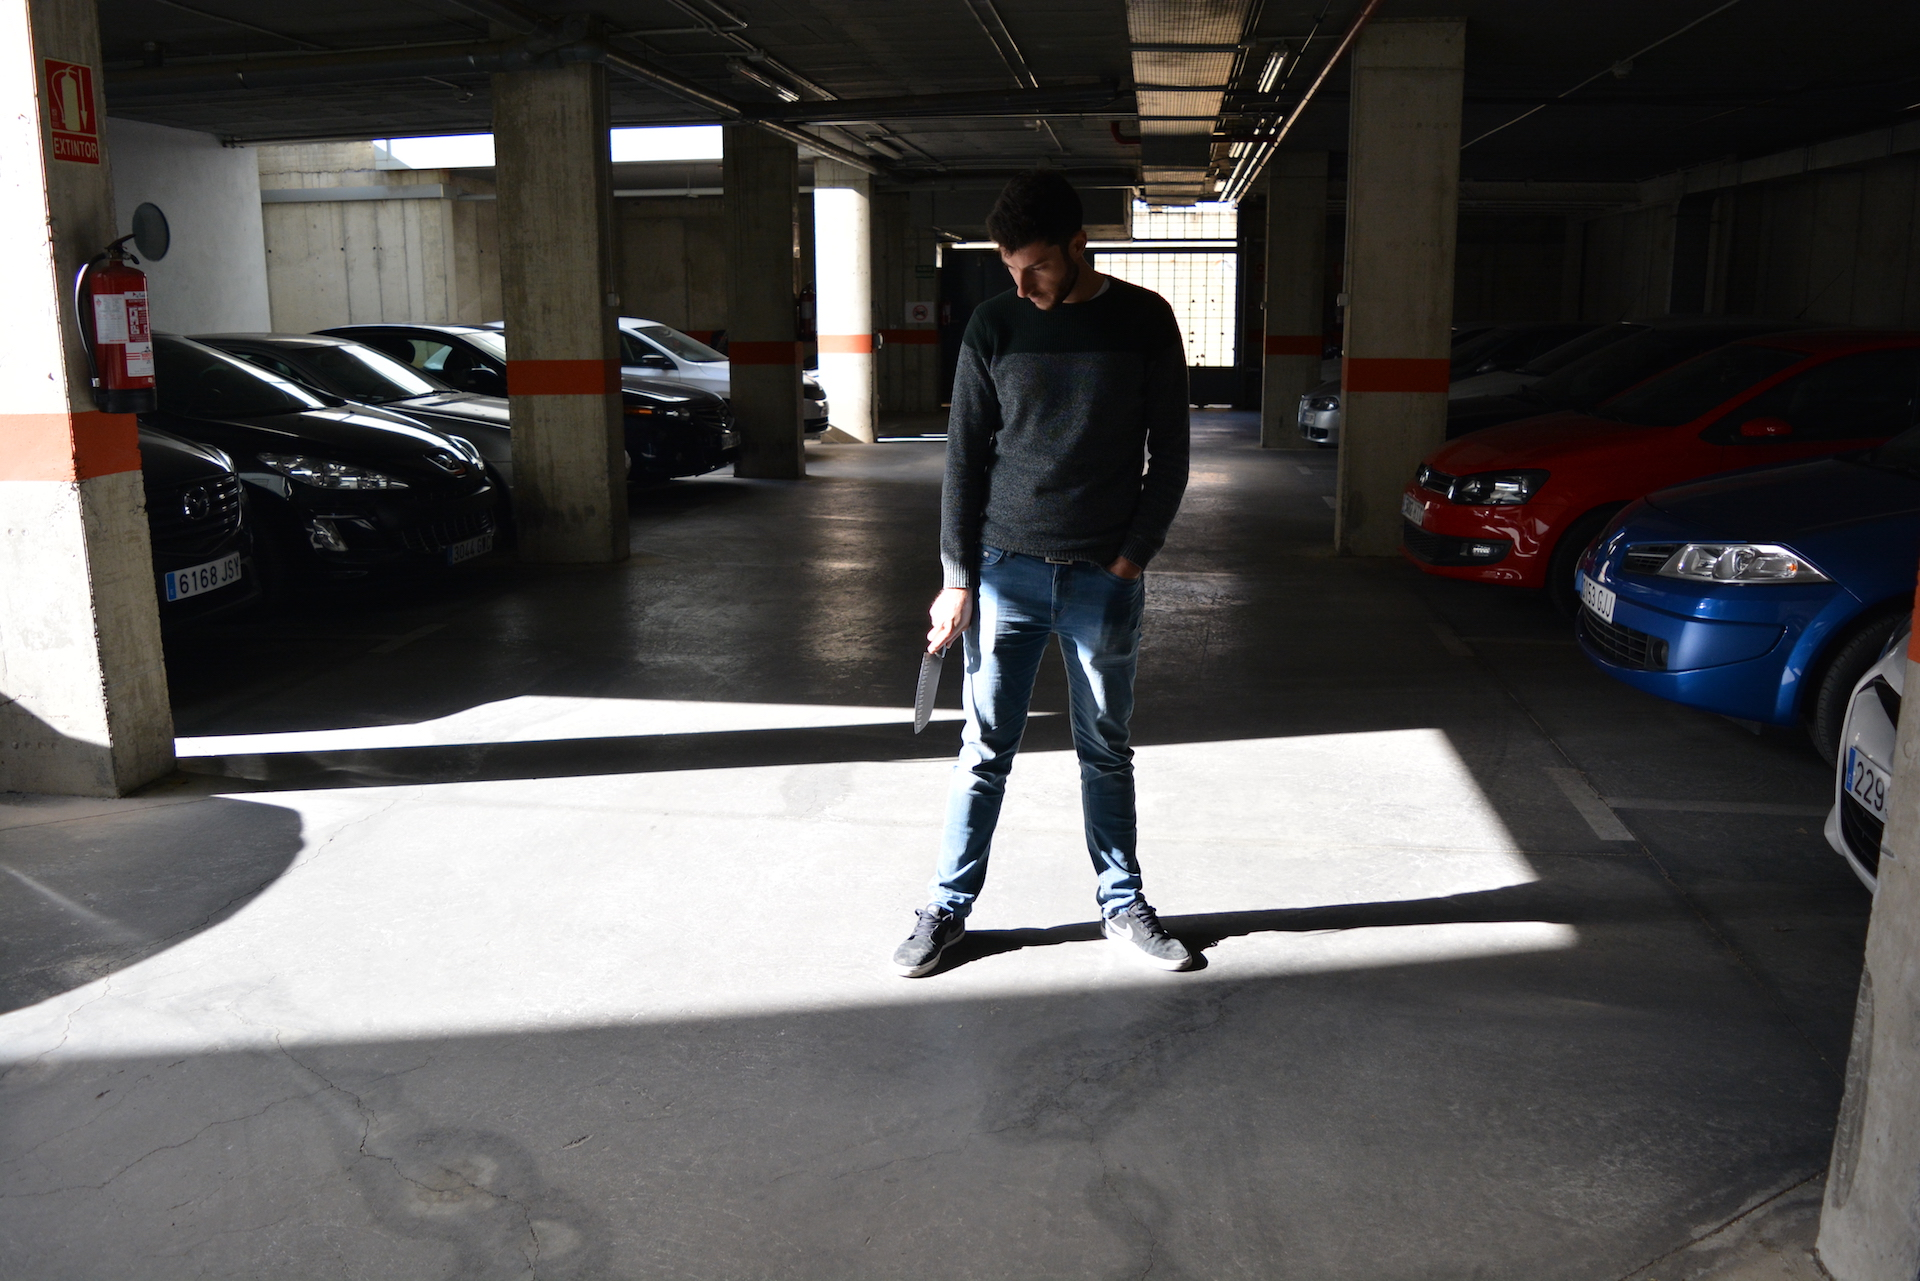knife: (908, 630, 951, 743)
